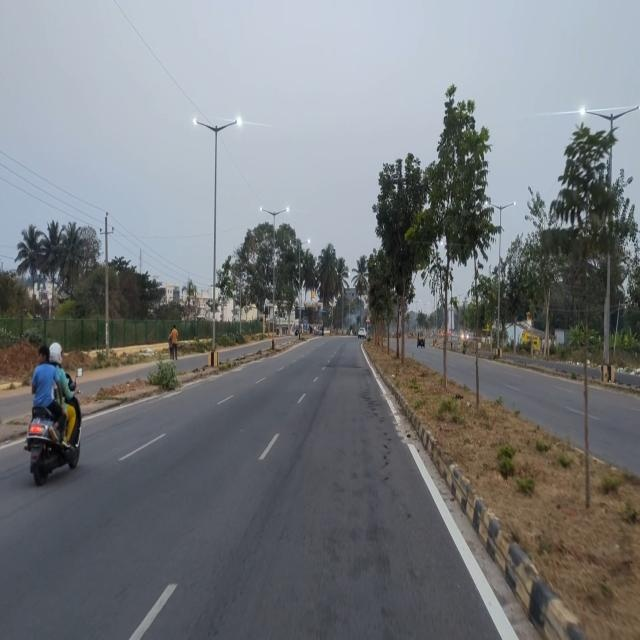bien_nguy_hiem: (365, 313, 371, 325)
